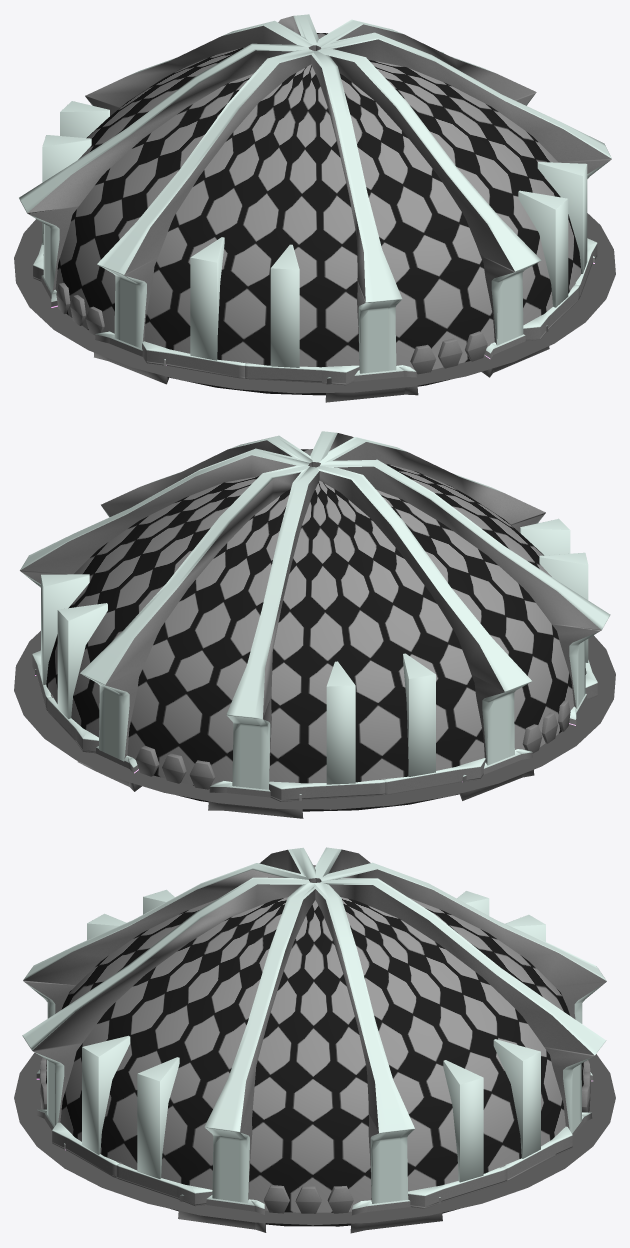
The model's file is lobby.glb.
The picture shows the model from 3 angles, top to bottom: view 1: azimuth 30°, elevation 25°; view 2: azimuth 150°, elevation 25°; view 3: azimuth 270°, elevation 25°; orthographic projection.
Parts seen in each view (by area): view 1: Circle.001; view 2: Circle.001; view 3: Circle.001.
Boxes of the visible parts, box(x1,y1,x2,y2) form: Circle.001: box(14, 14, 615, 402); Circle.001: box(14, 431, 615, 818); Circle.001: box(14, 847, 615, 1233).
Bounding box in the file's own units: 45 × 19.96 × 45.
Materials: 8 (3 with a texture image).
